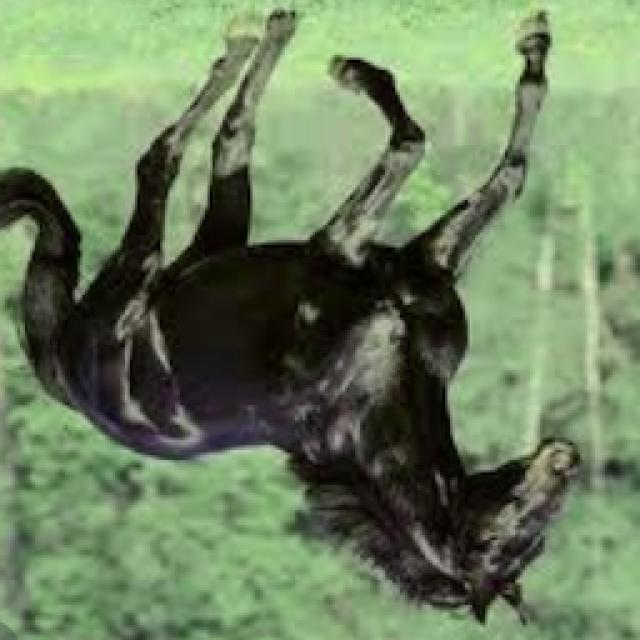Horse: (2, 5, 592, 633)
